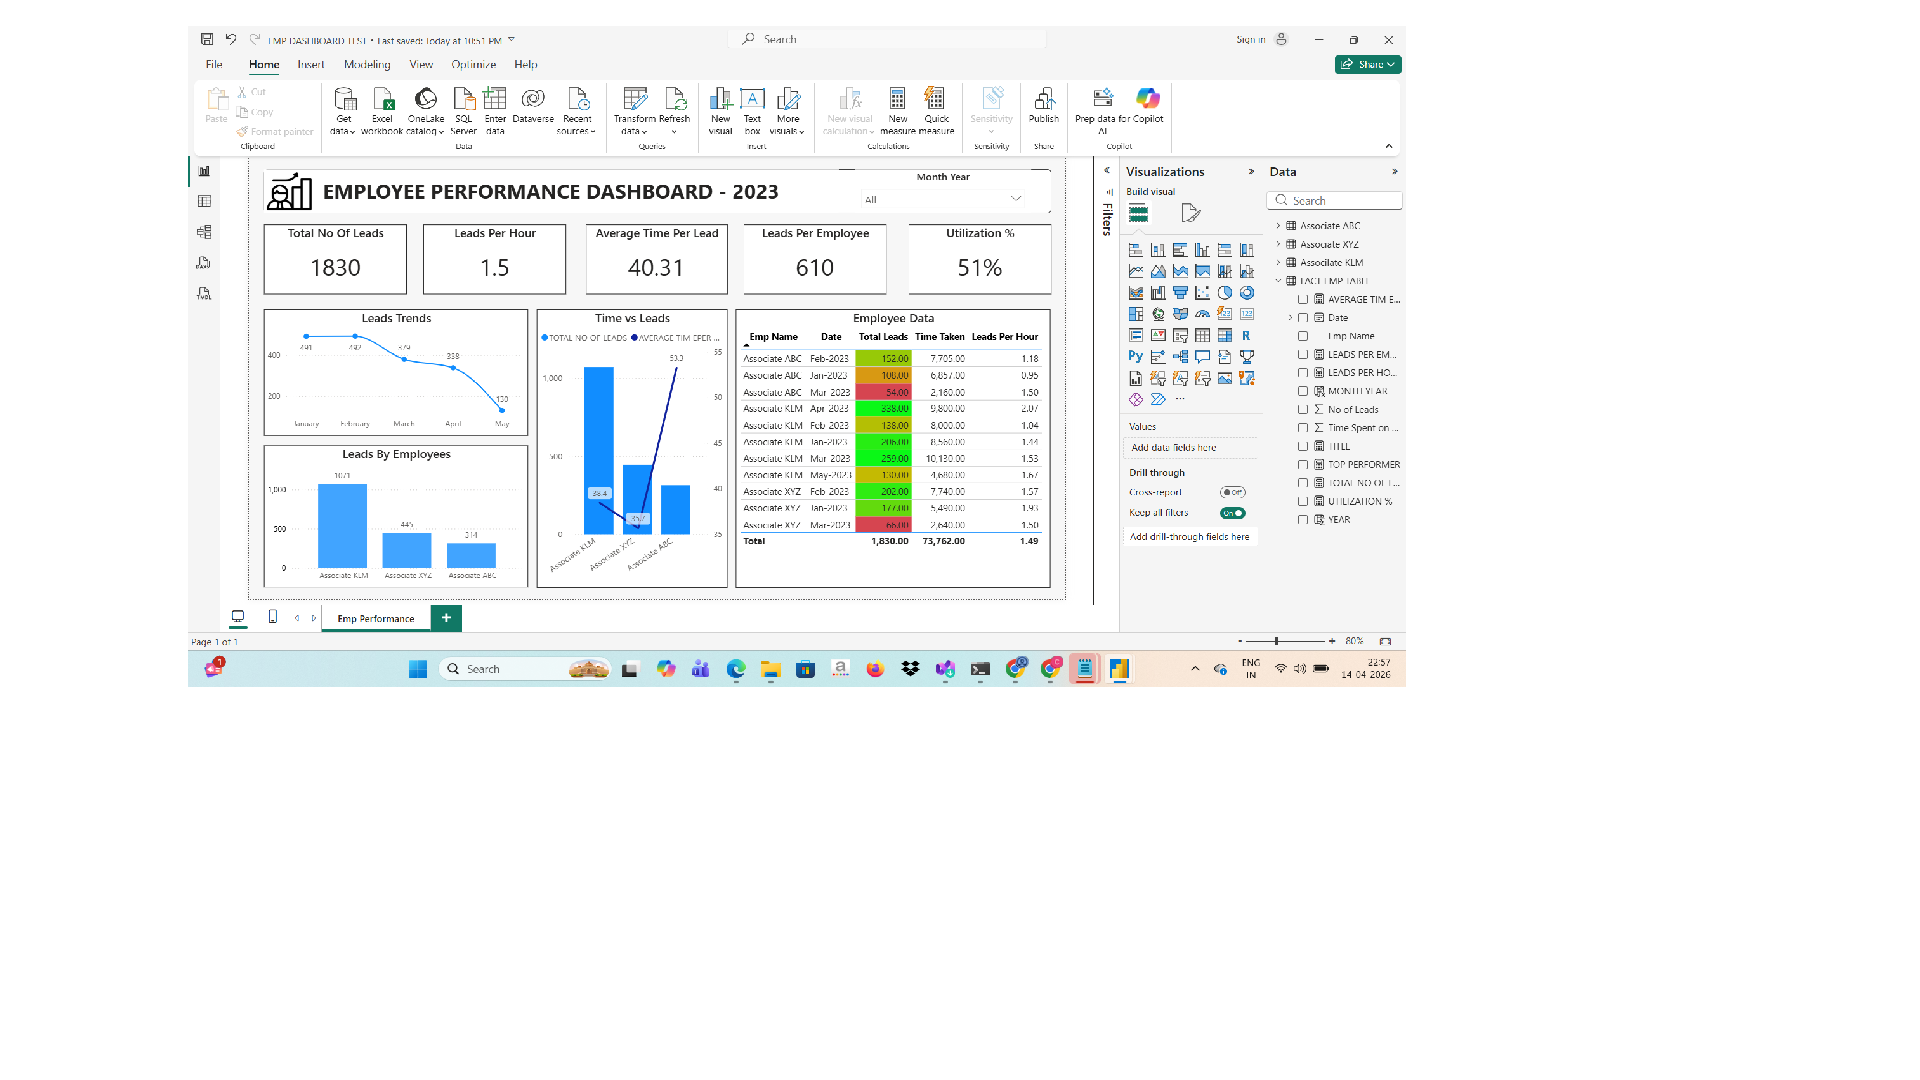

The dashboard page shown, as its layout file describes it:
{"tool":"powerbi","page":{"name":"Emp Performance","canvas":[1280,720],"ordinal":0},"visuals":[{"type":"textbox","box":[23.3,20.6,1235,71.4],"z":0},{"type":"card","fields":{"Values":["FACT EMP TABLE.TITLE"]},"box":[23.3,20.6,901.5,71.4],"z":1000},{"type":"slicer","title":"Month Year","fields":{"Values":["FACT EMP TABLE.MONTH YEAR"]},"box":[950.9,20.6,277.2,71.4],"z":2000},{"type":"card","title":"Total No Of Leads","fields":{"Values":["FACT EMP TABLE.TOTAL NO OF LEADS"]},"box":[23.3,111.1,223.7,113.9],"z":3000},{"type":"card","title":"Leads Per Hour","fields":{"Values":["FACT EMP TABLE.LEADS PER HOUR"]},"box":[273.1,111.1,223.7,113.9],"z":4000},{"type":"card","title":"Average Time Per Lead","fields":{"Values":["FACT EMP TABLE.AVERAGE TIM EPER LEAD"]},"box":[528.3,111.1,222.3,113.9],"z":5000},{"type":"card","title":"Leads Per Employee","fields":{"Values":["FACT EMP TABLE.LEADS PER EMPLOYEE"]},"box":[776.7,111.1,223.7,113.9],"z":6000},{"type":"card","title":"Utilization %","fields":{"Values":["FACT EMP TABLE.UTILIZATION %"]},"box":[1034.7,111.1,223.7,113.9],"z":7000},{"type":"clusteredColumnChart","title":"Leads By Employees","fields":{"Category":["FACT EMP TABLE.Emp Name"],"Y":["FACT EMP TABLE.TOTAL NO OF LEADS"]},"box":[23.3,470.7,414.4,230.5],"z":8000},{"type":"lineClusteredColumnComboChart","title":"Time vs Leads ","fields":{"Y":["FACT EMP TABLE.TOTAL NO OF LEADS"],"Category":["FACT EMP TABLE.Emp Name"],"Y2":["FACT EMP TABLE.AVERAGE TIM EPER LEAD"]},"box":[451.5,248.4,299.1,452.8],"z":9000},{"type":"tableEx","title":"Employee Data","fields":{"Values":["FACT EMP TABLE.Emp Name","FACT EMP TABLE.MONTH YEAR","Sum(FACT EMP TABLE.No of Leads)","Sum(FACT EMP TABLE.Time Spent on LG (in mins))","FACT EMP TABLE.LEADS PER HOUR"]},"box":[764.3,248.4,494,452.8],"z":10000},{"type":"lineChart","title":"Leads Trends","fields":{"Y":["FACT EMP TABLE.TOTAL NO OF LEADS"],"Category":["FACT EMP TABLE.Date.Variation.Date Hierarchy.Month"]},"box":[23.3,248.4,414.4,205.8],"z":11000},{"type":"image","box":[23.3,20.6,79.6,71.4],"z":11001}]}

Visuals, with their boxes on the page's 1280x720 design canvas (x1, y1, x2, y2). These are canvas units, not pixel positions in the 1920x1080 screenshot, which may show the page scaled, cropped or inside an application window:
textbox: (23, 21, 1258, 92)
card - FACT EMP TABLE.TITLE: (23, 21, 925, 92)
"Month Year" slicer: (951, 21, 1228, 92)
"Total No Of Leads" card: (23, 111, 247, 225)
"Leads Per Hour" card: (273, 111, 497, 225)
"Average Time Per Lead" card: (528, 111, 751, 225)
"Leads Per Employee" card: (777, 111, 1000, 225)
"Utilization %" card: (1035, 111, 1258, 225)
"Leads By Employees" clusteredColumnChart: (23, 471, 438, 701)
"Time vs Leads " lineClusteredColumnComboChart: (452, 248, 751, 701)
"Employee Data" tableEx: (764, 248, 1258, 701)
"Leads Trends" lineChart: (23, 248, 438, 454)
image: (23, 21, 103, 92)
